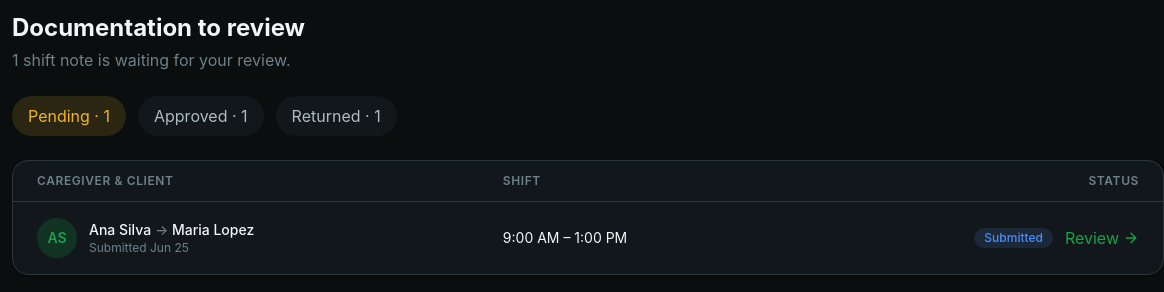
Test: CoordinatorReviewPage › renders populated queue with status pills
The width and height of the screenshot is (1164, 292).
Check: the text "Ana Silva → Maria Lopez" is shown, box [89,220,254,240]
Check: the text "Submitted" is shown, box [974,228,1053,248]
Click the button "Returned · 1".
click(336, 116)  # box [276,96,397,136]
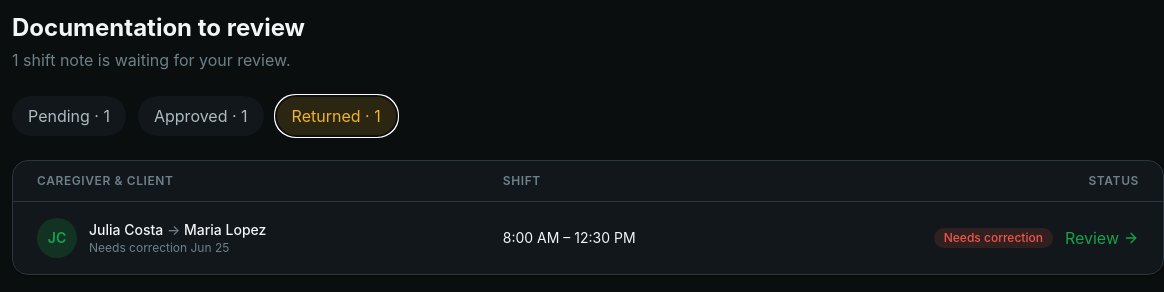
Check: the text "Julia Costa → Maria Lopez" is shown, box [89,220,266,240]
Check: the text "Needs correction" is shown, box [934,228,1053,248]
Click the button "Approved · 1".
click(201, 116)  # box [138,96,264,136]
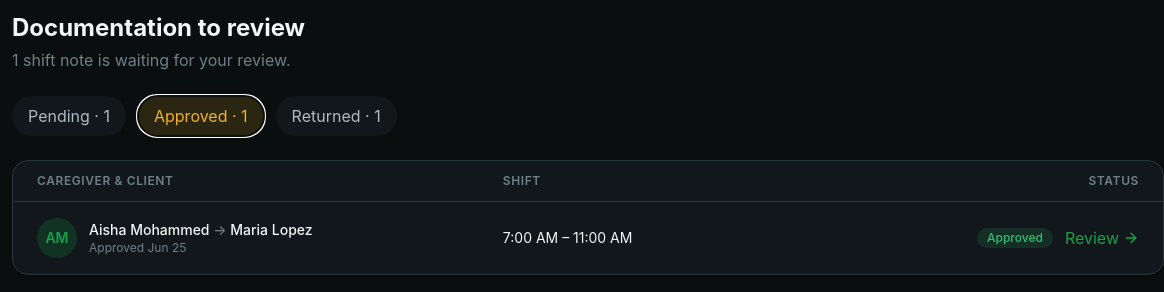
Check: the text "Aisha Mohammed → Maria Lopez" is shown, box [89,220,313,240]
Check: the text "Approved" is shown, box [977,228,1053,248]
